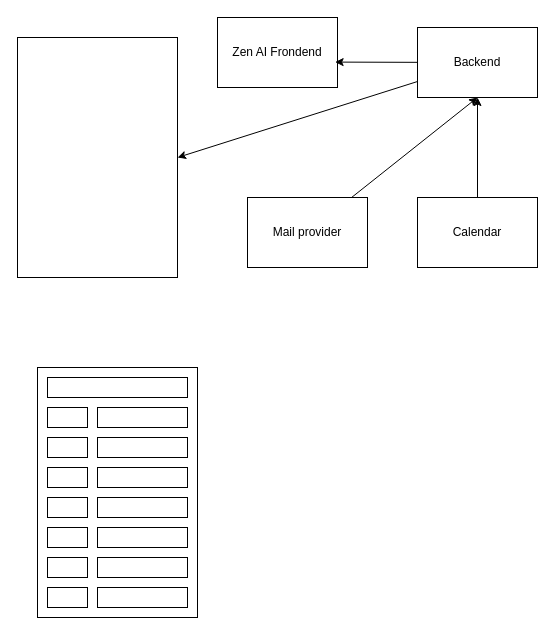
Some shapes in this 555 by 635 pixel diagram are drawn without their labels. Each missing label, with the centre of its shape:
<curentdate>: (117,387)
E Ink Display: (97,157)
